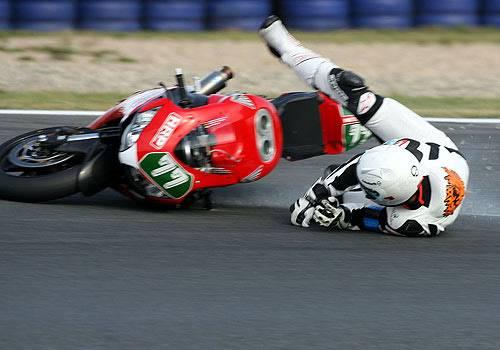fall: (262, 19, 487, 228)
